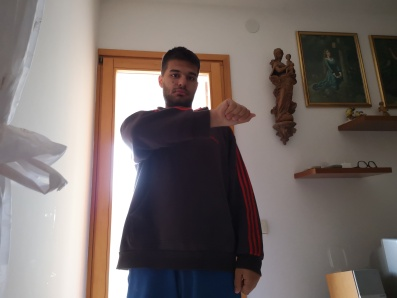A: (211, 96, 260, 127)
